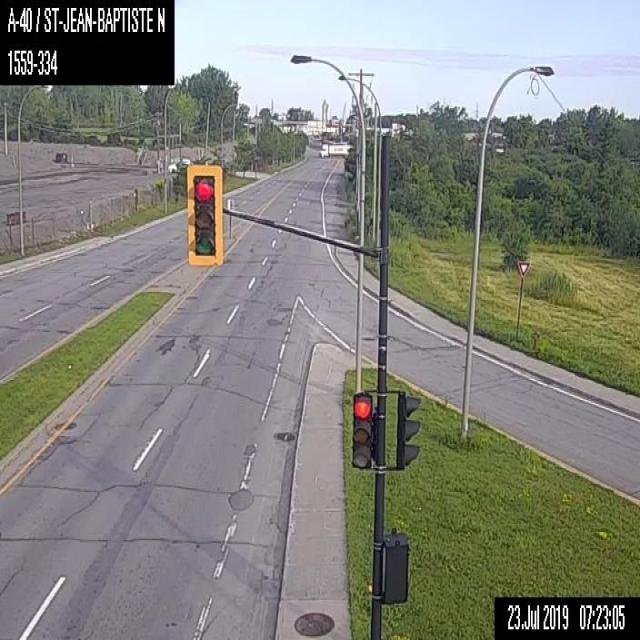vehicle: (318, 142, 354, 157)
